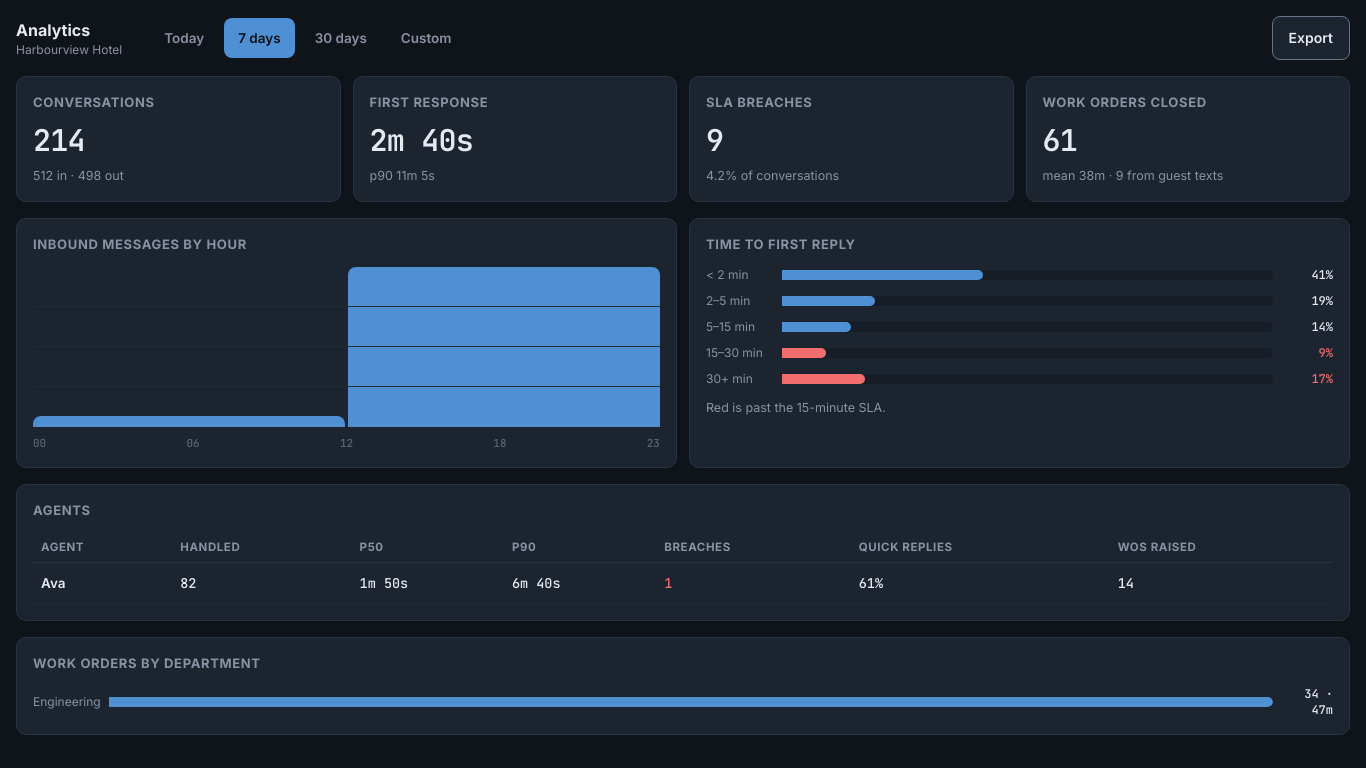
AnalyticsPage › reveals two date inputs when Custom is selected
expect the text "214" is shown: met, box x1=33 y1=120 x2=85 y2=160
Click the tab "Custom".
click(426, 38)  # box x1=387 y1=18 x2=466 y2=58
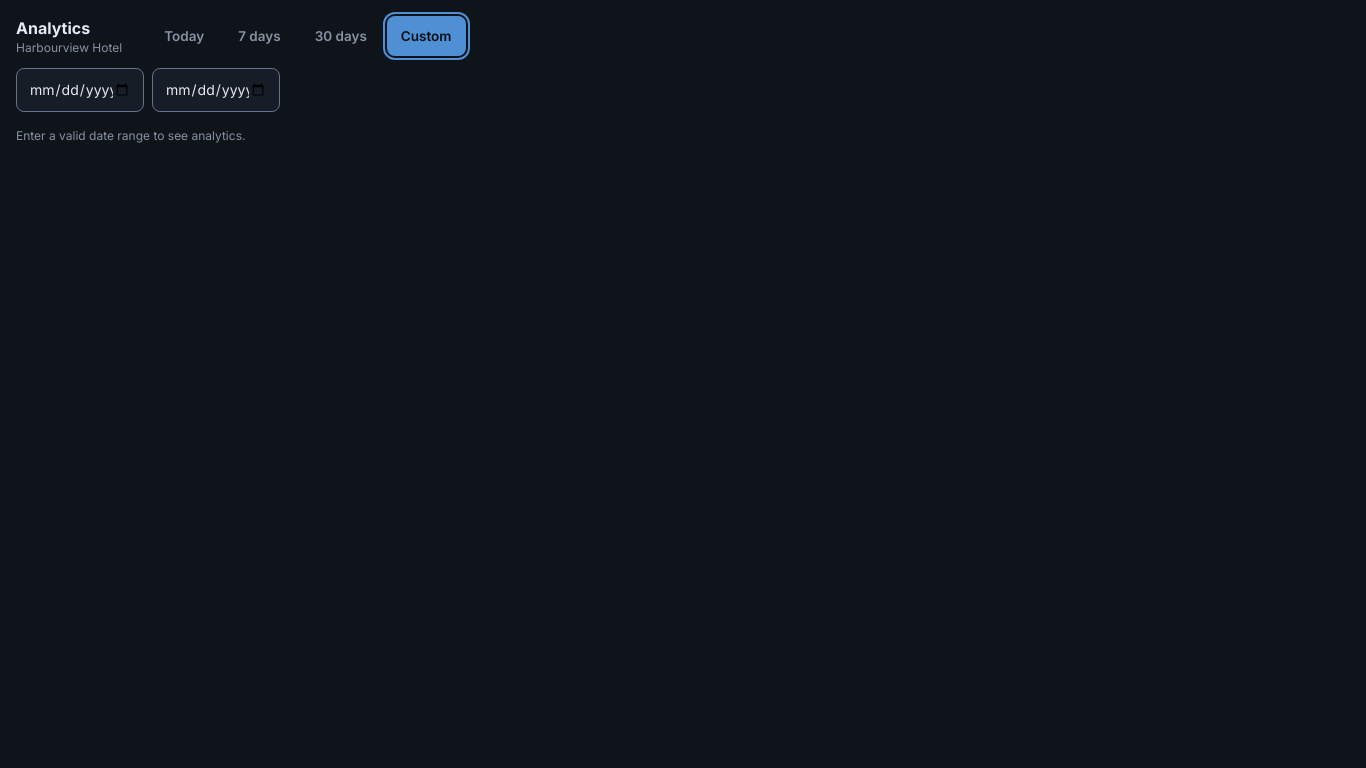
expect the number of date fields is 2: met, box x1=16 y1=68 x2=144 y2=112; x1=152 y1=68 x2=280 y2=112
